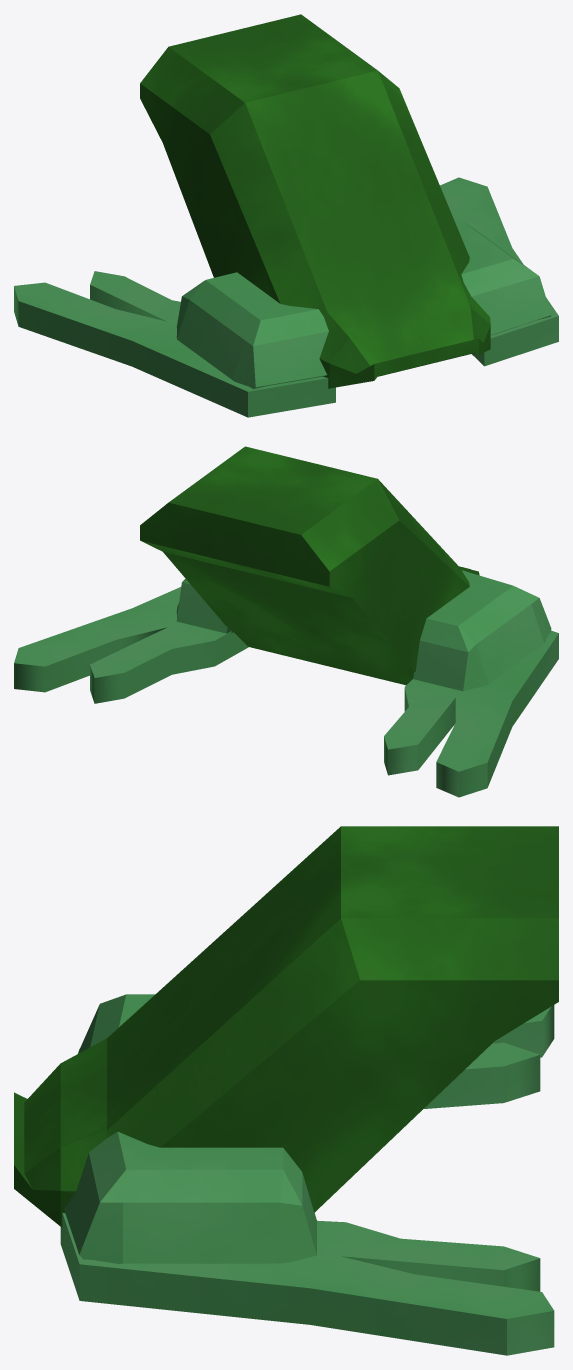
File: frog_body.FBX
3 renders of one model, top to bottom at view 1: azimuth 30°, elevation 25°; view 2: azimuth 150°, elevation 25°; view 3: azimuth 270°, elevation 25°, orthographic. The views are drawn at different scales.
Parts seen in each view (by area): view 1: Box003, Box005, Box004; view 2: Box003, Box005, Box004; view 3: Box003, Box005, Box004.
Boxes of the visible parts, <box> form: Box003: <box>140,14,490,388</box>; Box005: <box>14,177,558,417</box>; Box004: <box>176,218,551,389</box>; Box003: <box>140,446,479,685</box>; Box005: <box>14,587,558,797</box>; Box004: <box>176,570,551,691</box>; Box003: <box>14,826,558,1227</box>; Box005: <box>60,1005,554,1355</box>; Box004: <box>64,994,316,1263</box>.
Size of the model in its own units: 10.5 by 4.83 by 7.43.
Materials: 2 (2 with a texture image).
